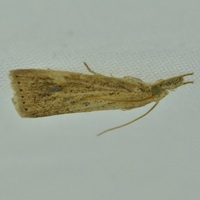insect: (9, 63, 192, 116)
